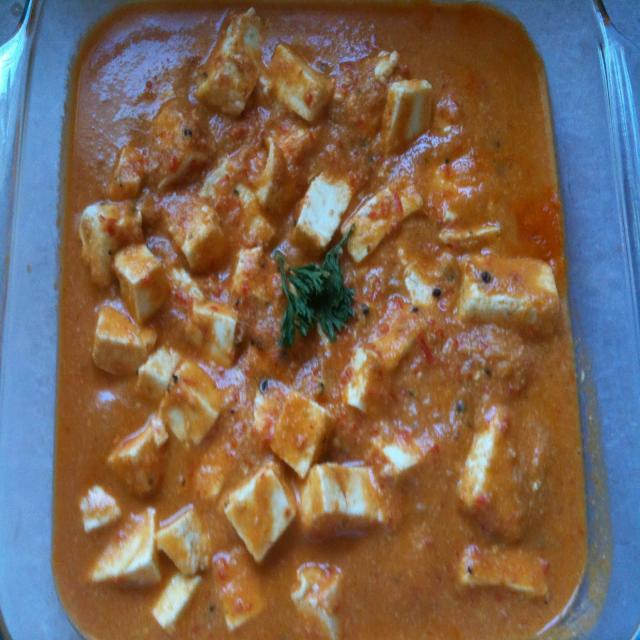ShahiPaneer: (70, 9, 588, 640)
